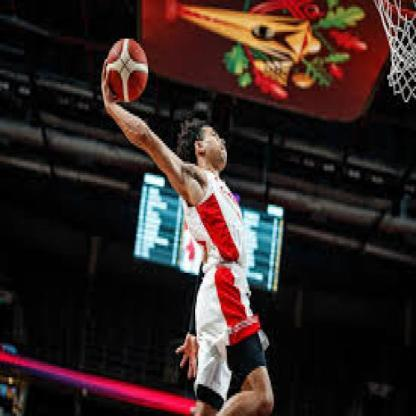basketball: (108, 39, 147, 102)
